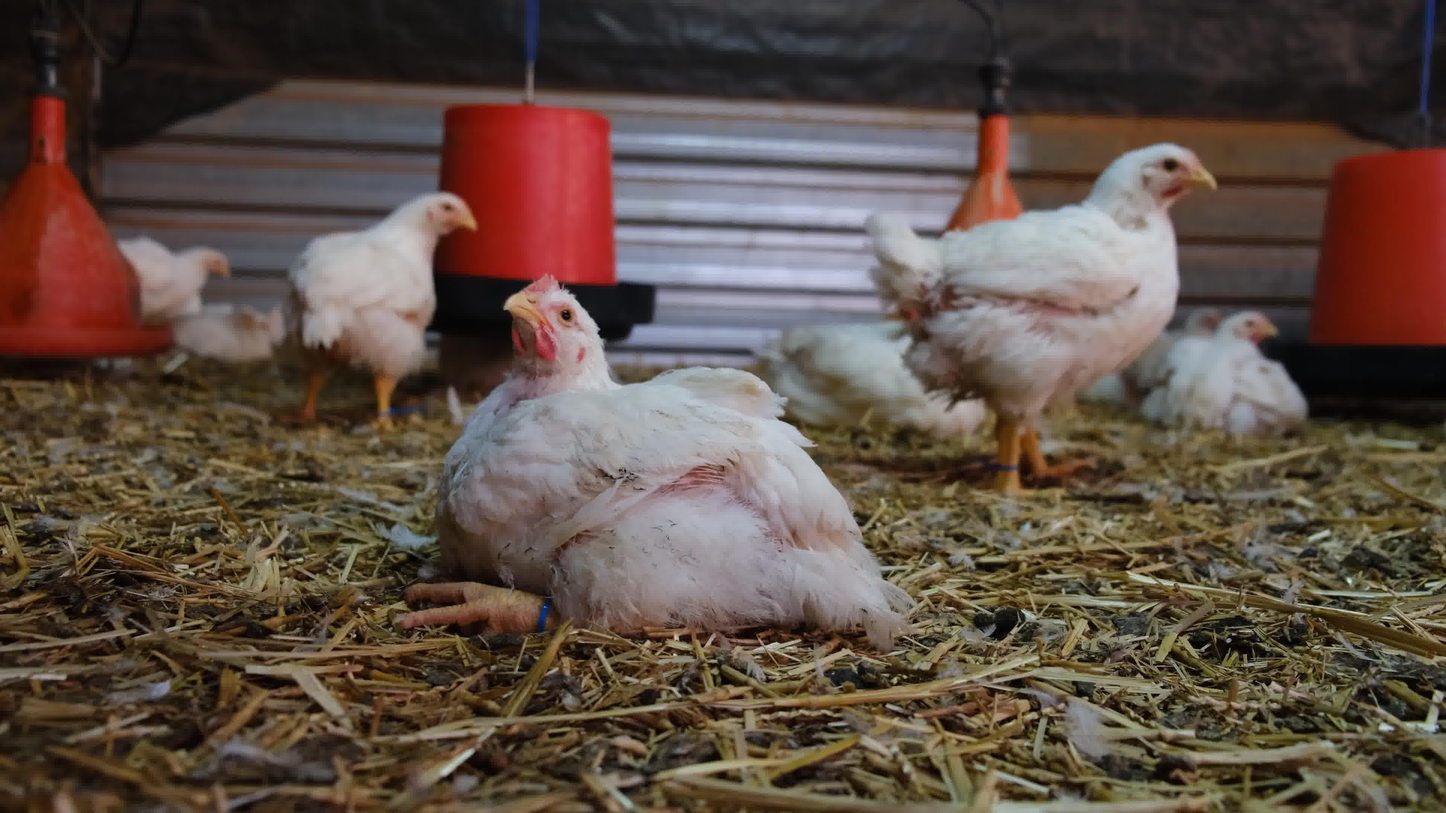AbNormal: (392, 279, 917, 629), (763, 317, 1006, 441), (1170, 305, 1311, 431), (1114, 296, 1234, 413), (167, 298, 294, 377)
Normal: (864, 142, 1224, 500), (292, 194, 479, 438), (106, 234, 230, 316)
